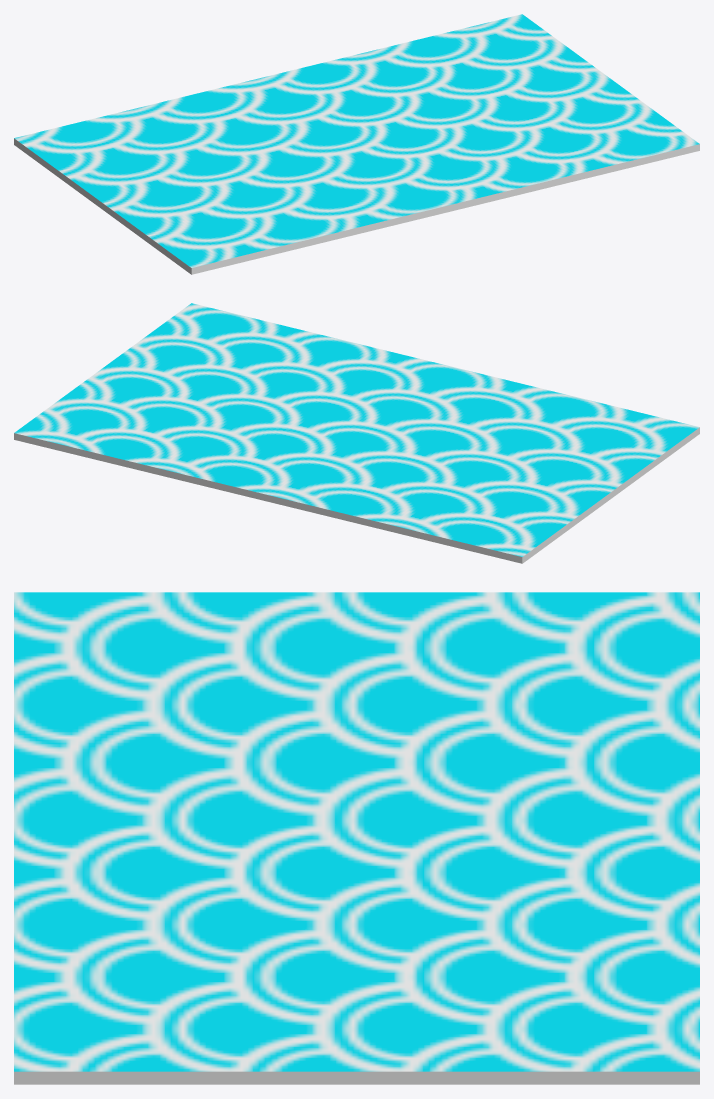
3 views of the same model, one above another, from view 1: azimuth 30°, elevation 25°; view 2: azimuth 150°, elevation 25°; view 3: azimuth 270°, elevation 25° (orthographic). The views are drawn at different scales.
Parts seen in each view (by area): view 1: Mat_B; view 2: Mat_B; view 3: Mat_B.
Part boxes in pixels (left/top/right/bottom): Mat_B: left=14, top=14, right=699, bottom=274; Mat_B: left=14, top=303, right=699, bottom=563; Mat_B: left=14, top=592, right=699, bottom=1084.
Bounding box in the file's own units: 268 × 3.38 × 162.
